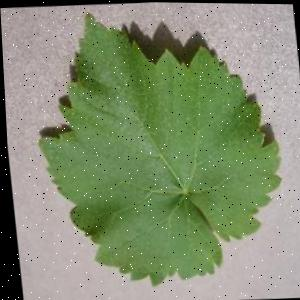Folha: (24, 1, 292, 292)
